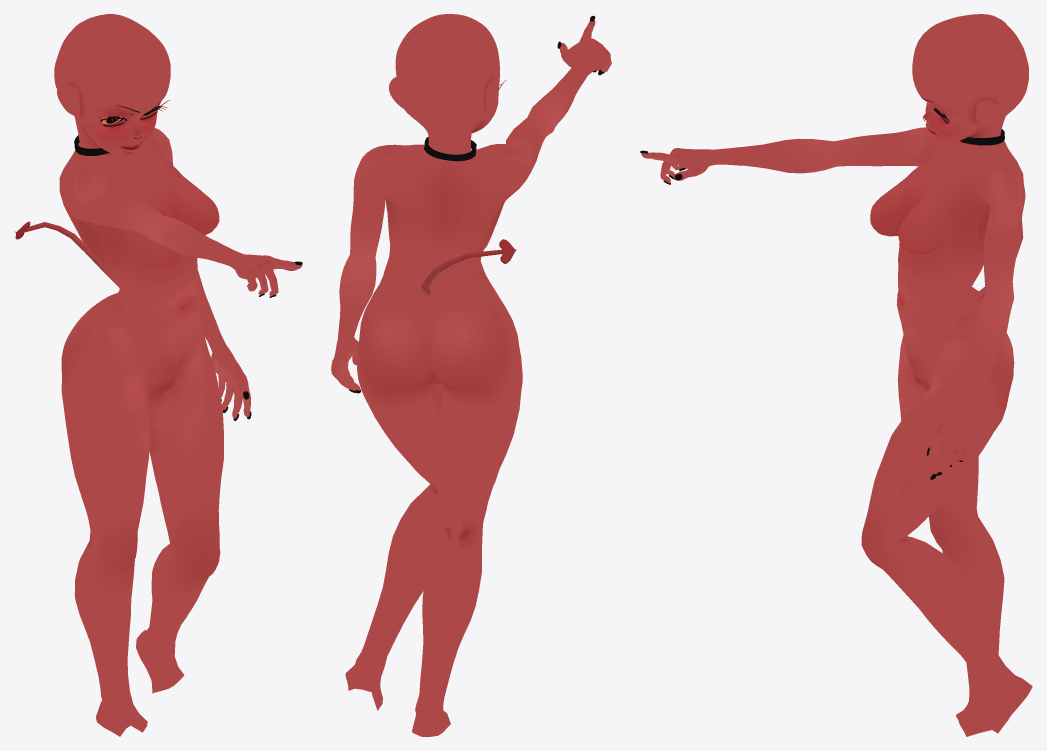
File: manga-girl-11.gltf
3 views of the same model, side by side, from view 1: azimuth 30°, elevation 25°; view 2: azimuth 150°, elevation 25°; view 3: azimuth 270°, elevation 25° (orthographic).
Parts seen in each view (by area): view 1: Girl_1; view 2: Girl_1; view 3: Girl_1.
Part boxes in pixels (<box>): Girl_1: <box>14,14,302,736</box>; Girl_1: <box>331,14,611,736</box>; Girl_1: <box>640,14,1032,736</box>.
Bounding box in the file's own units: 0.471 × 1.56 × 0.7876.
1 material, 1 textured.
